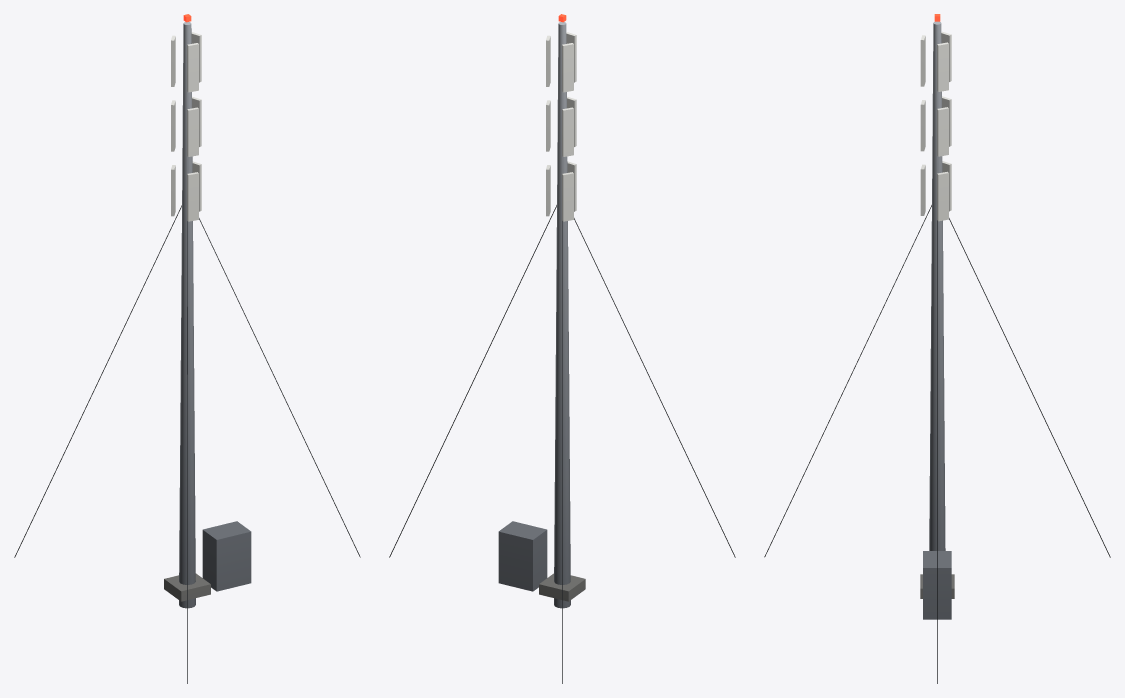
The model's file is Antenna_Mast.fbx.
3 views of the same model, side by side, from view 1: azimuth 30°, elevation 25°; view 2: azimuth 150°, elevation 25°; view 3: azimuth 270°, elevation 25° (orthographic).
Visible parts, largest first — view 1: Antenna_Mast_LOD0; view 2: Antenna_Mast_LOD0; view 3: Antenna_Mast_LOD0.
Boxes of the visible parts, left/top/right/bottom form: Antenna_Mast_LOD0: left=14, top=14, right=360, bottom=683; Antenna_Mast_LOD0: left=389, top=14, right=735, bottom=683; Antenna_Mast_LOD0: left=764, top=14, right=1110, bottom=683.
Size of what is drawn, in the model's own units: 10.53 by 22.8 by 12.15.
1 material, 1 textured.
